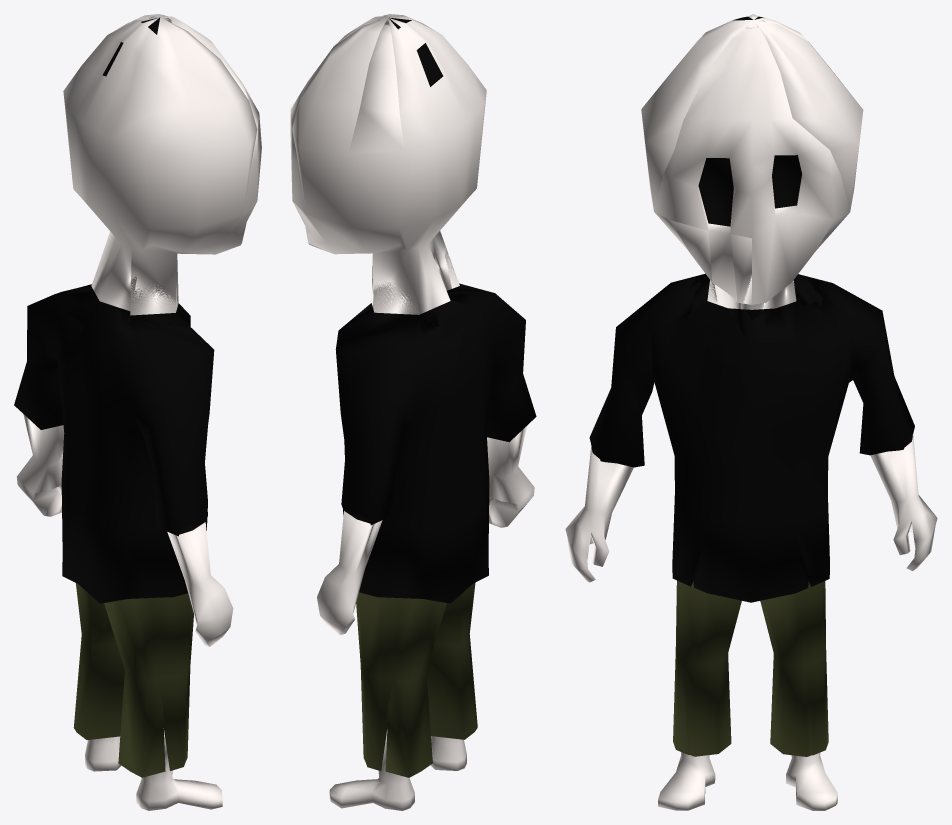
The model's file is bob.fbx.
The picture shows the model from 3 angles, left to right: view 1: azimuth 30°, elevation 25°; view 2: azimuth 150°, elevation 25°; view 3: azimuth 270°, elevation 25°; orthographic projection. The views are drawn at different scales.
Visible parts, largest first — view 1: Cube.001; view 2: Cube.001; view 3: Cube.001.
Part boxes in pixels (box(x1,y1,x2,y2)): Cube.001: box(14, 14, 261, 810); Cube.001: box(290, 14, 536, 810); Cube.001: box(565, 14, 937, 810).
Size of the model in its own units: 146 by 629 by 272.
